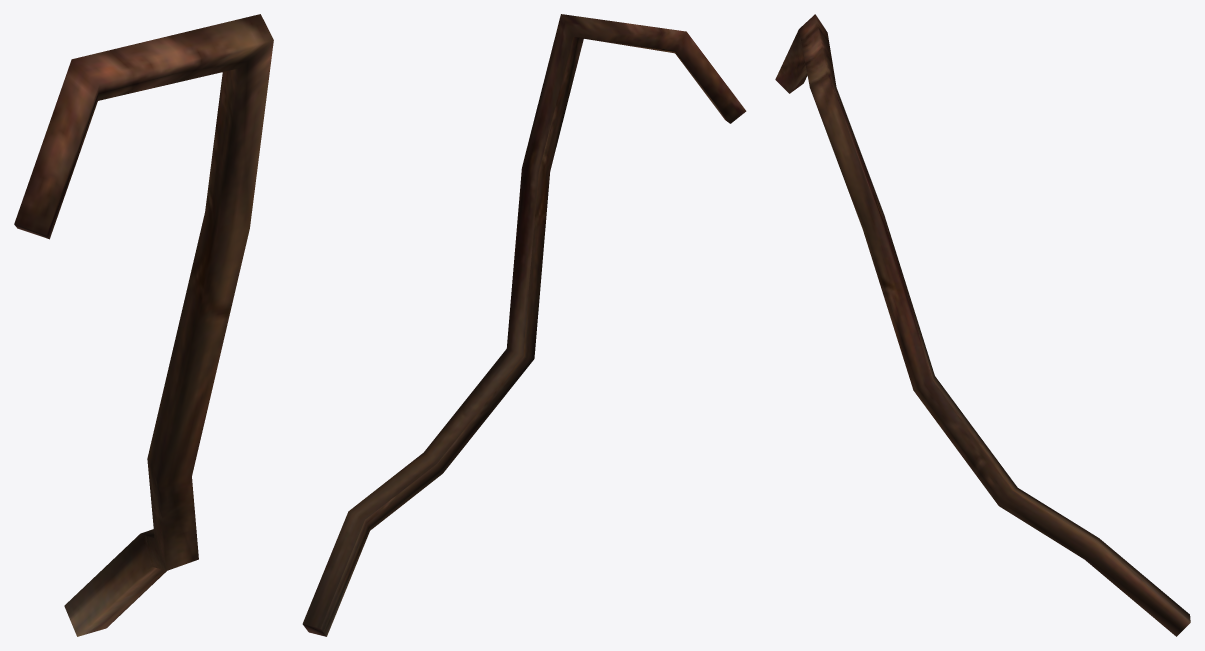
File: TengTiao01.FBX
The picture shows the model from 3 angles, left to right: view 1: azimuth 30°, elevation 25°; view 2: azimuth 150°, elevation 25°; view 3: azimuth 270°, elevation 25°; orthographic projection. The views are drawn at different scales.
Visible parts, largest first — view 1: TengTiao01; view 2: TengTiao01; view 3: TengTiao01.
Boxes of the visible parts, x1,y1,x2,y2 form: TengTiao01: (14, 14, 273, 636); TengTiao01: (302, 14, 746, 636); TengTiao01: (775, 14, 1190, 636).
Bounding box in the file's own units: 69.33 × 139 × 99.86.
